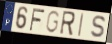6: (15, 6, 29, 31)
F: (28, 7, 46, 32)
G: (45, 10, 61, 34)
I: (77, 12, 85, 38)
R: (58, 10, 76, 38)
S: (90, 15, 108, 40)
